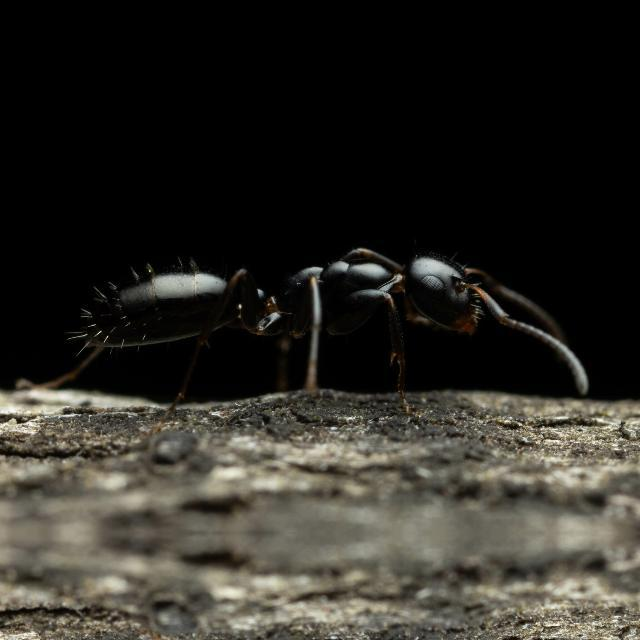Colobopsis: (14, 196, 566, 412)
